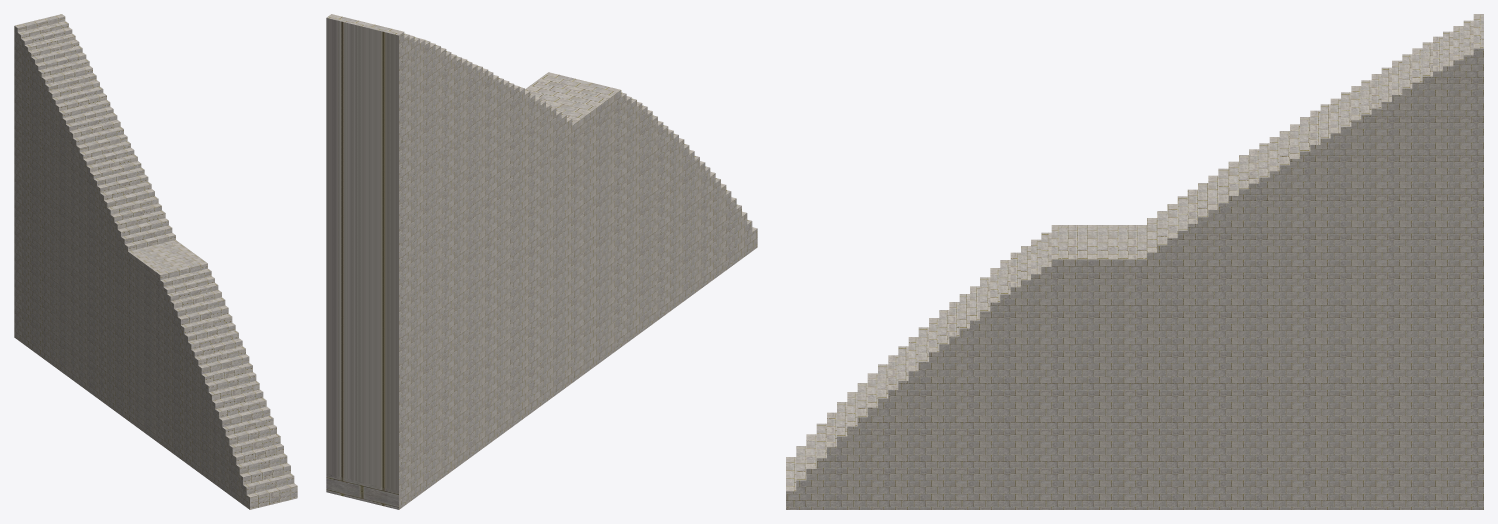
The model's file is Stone_Stairs.fbx.
3 views of the same model, side by side, from view 1: azimuth 30°, elevation 25°; view 2: azimuth 150°, elevation 25°; view 3: azimuth 270°, elevation 25° (orthographic). The views are drawn at different scales.
Parts seen in each view (by area): view 1: pCube1; view 2: pCube1; view 3: pCube1.
Part boxes in pixels (bbox=[...]): pCube1: bbox=[14, 14, 297, 509]; pCube1: bbox=[326, 14, 757, 509]; pCube1: bbox=[786, 14, 1483, 509].
Size of the model in its own units: 4 by 24.93 by 34.17.
1 material, 1 textured.
